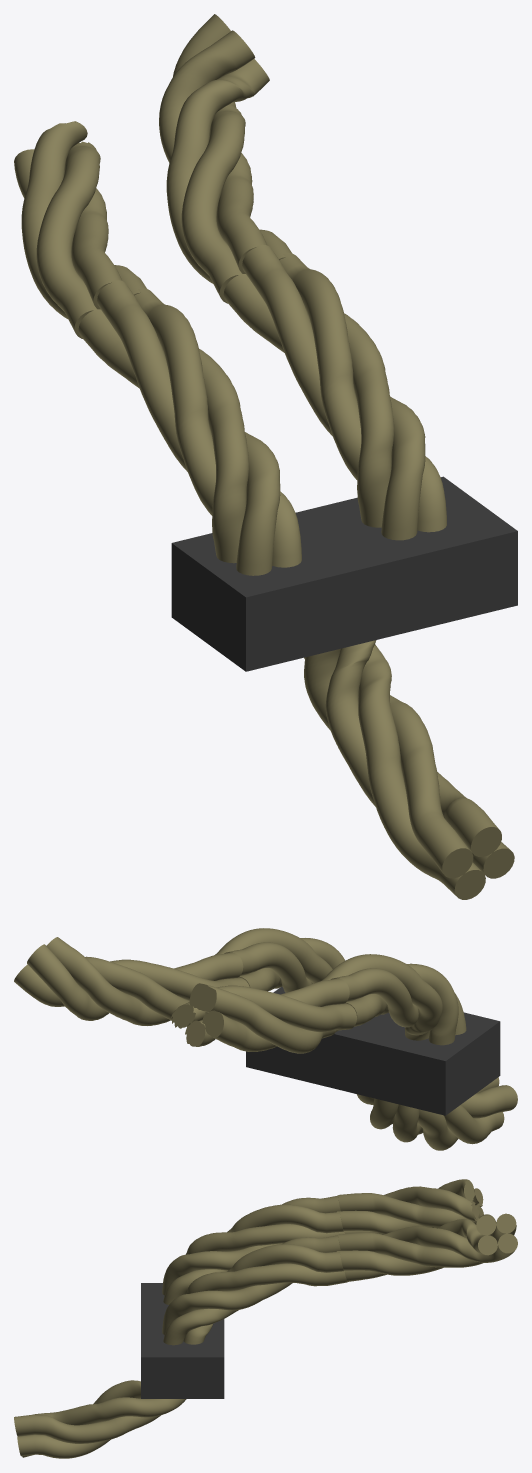
The model's file is Rope2.fbx.
3 views of the same model, one above another, from view 1: azimuth 30°, elevation 25°; view 2: azimuth 150°, elevation 25°; view 3: azimuth 270°, elevation 25° (orthographic). The views are drawn at different scales.
Parts seen in each view (by area): view 1: Rope; view 2: Rope; view 3: Rope.
Part boxes in pixels (x1,y1,x2,y2): Rope: (14,14,517,899); Rope: (14,928,517,1150); Rope: (14,1179,517,1458).
Bounding box in the file's own units: 21.19 × 32.06 × 50.04.
